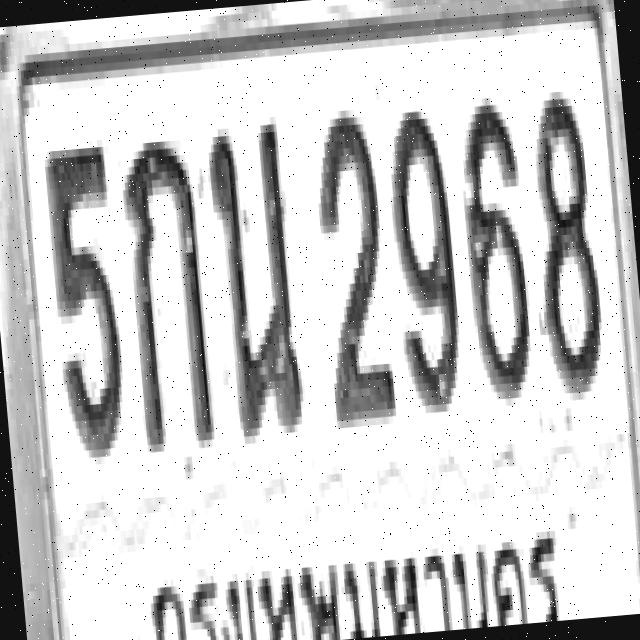10GorGai: (118, 128, 215, 449)
2: (307, 100, 396, 420)
34NorNu: (202, 109, 305, 438)
5: (41, 136, 130, 456)
6: (452, 92, 536, 397)
8: (522, 83, 606, 394)
9: (382, 98, 465, 410)
Bangkok: (144, 507, 566, 640)
